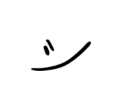shi: (29, 34, 95, 73)
